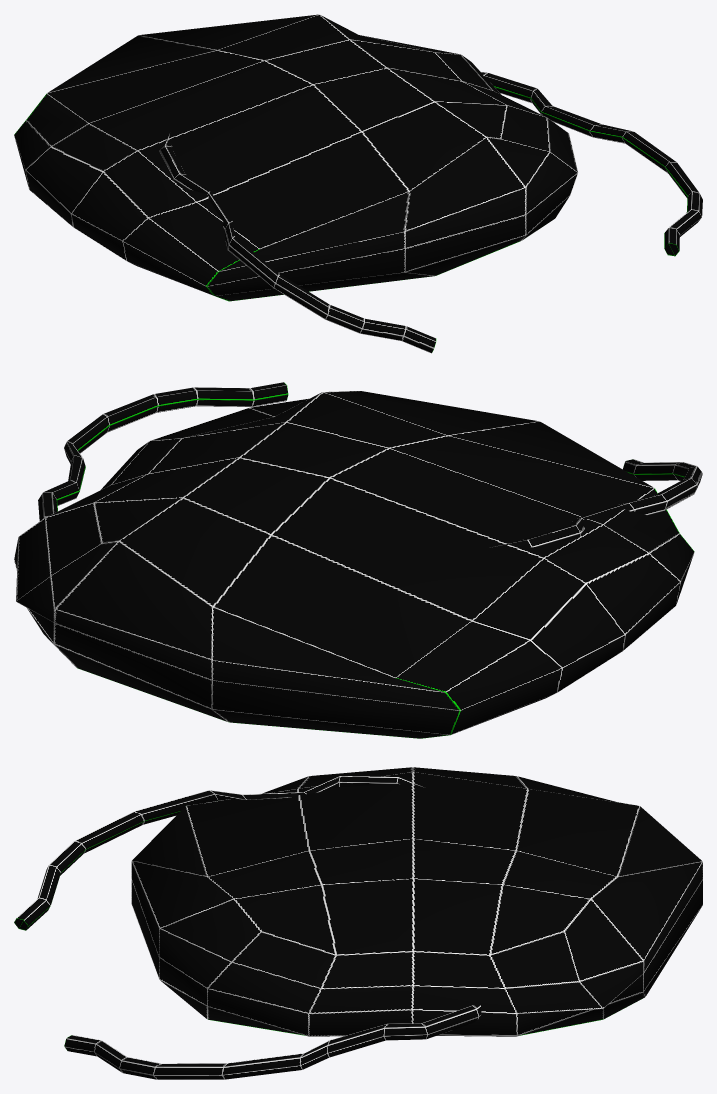
Rendered from asset_ingredient_pasta_state3.FBX.
The picture shows the model from 3 angles, top to bottom: view 1: azimuth 30°, elevation 25°; view 2: azimuth 150°, elevation 25°; view 3: azimuth 270°, elevation 25°; orthographic projection. The views are drawn at different scales.
Parts seen in each view (by area): view 1: Box013, Object004, Object003; view 2: Box013, Object003, Object004; view 3: Box013, Object003, Object004.
Boxes of the visible parts, box(x1,y1,x2,y2) form: Box013: box(14, 14, 578, 301); Object004: box(159, 133, 436, 353); Object003: box(480, 72, 702, 256); Box013: box(14, 391, 694, 738); Object003: box(38, 382, 288, 520); Object004: box(490, 459, 702, 547); Box013: box(131, 767, 702, 1036); Object003: box(64, 1005, 481, 1079); Object004: box(14, 776, 423, 930).
Size of the model in its own units: 11.01 by 2.37 by 11.85.
